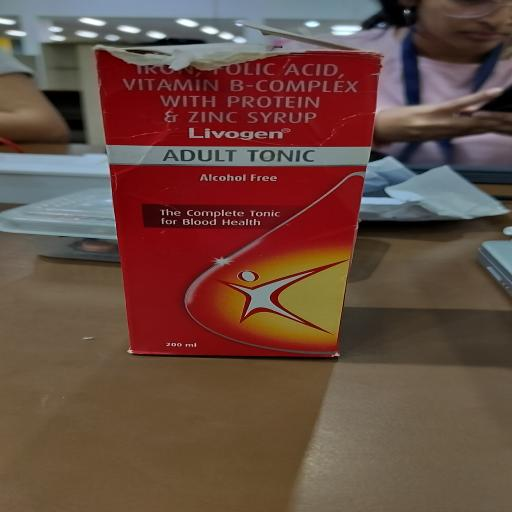Livogen: (114, 57, 364, 167)
medicine: (84, 45, 381, 367)
